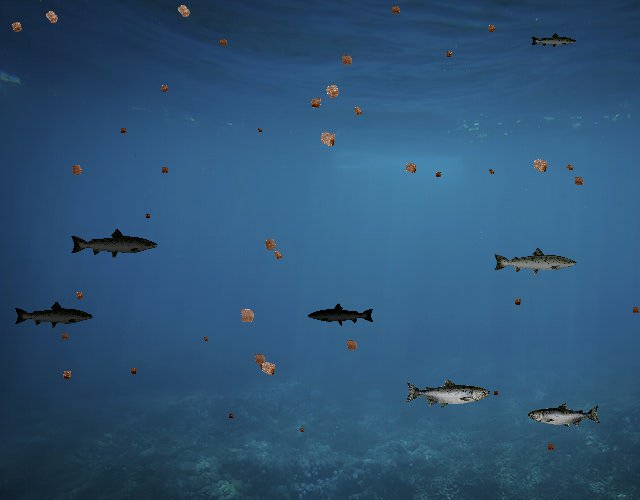Fish: (69, 228, 159, 260), (492, 246, 578, 277), (404, 378, 490, 409), (13, 300, 94, 330), (529, 402, 602, 428), (307, 303, 375, 327), (530, 32, 577, 49)
Pellet: (5, 16, 28, 38), (569, 172, 588, 191), (348, 102, 367, 121), (386, 1, 404, 19), (432, 168, 445, 181), (117, 124, 129, 136), (200, 334, 210, 344)
